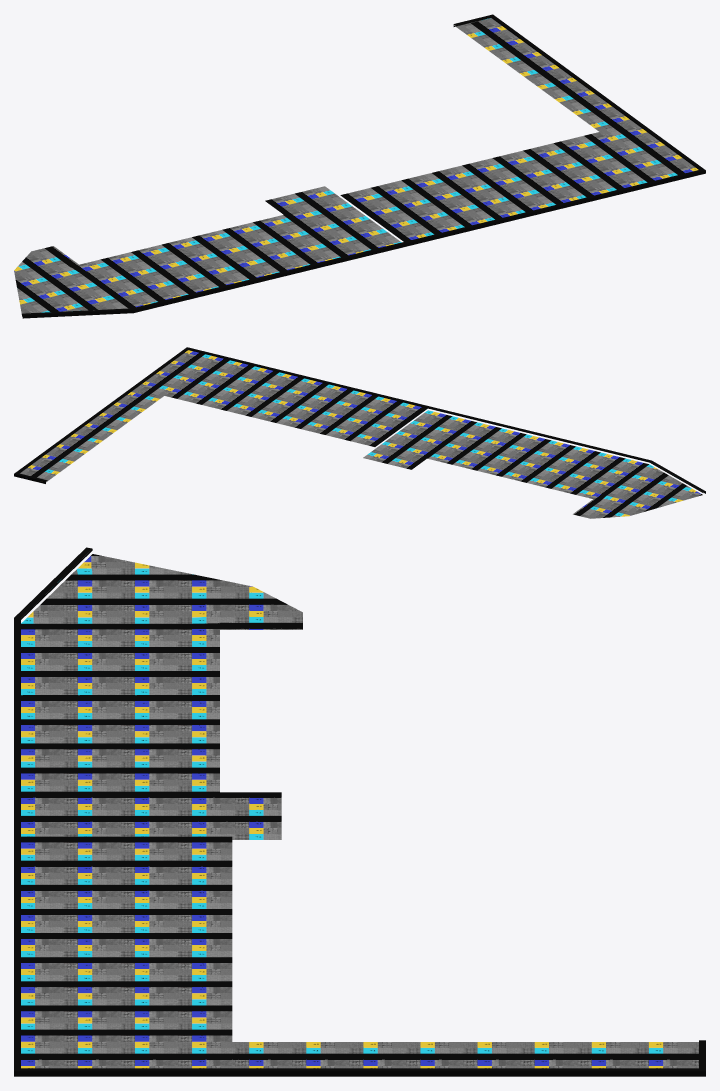
The model's file is downtown_sidewalk_3.fbx.
3 views of the same model, one above another, from view 1: azimuth 30°, elevation 25°; view 2: azimuth 150°, elevation 25°; view 3: azimuth 270°, elevation 25° (orthographic). The views are drawn at different scales.
Parts seen in each view (by area): view 1: curb_tiles_1, curb_tiles_2, downtown_curb_3; view 2: curb_tiles_1, curb_tiles_2, downtown_curb_3; view 3: curb_tiles_1, curb_tiles_2, downtown_curb_3.
Boxes of the visible parts, box(x1,y1,x2,y2) form: curb_tiles_1: box(340, 18, 698, 241); curb_tiles_2: box(14, 186, 401, 316); downtown_curb_3: box(22, 14, 705, 318); curb_tiles_1: box(20, 350, 427, 482); curb_tiles_2: box(363, 410, 702, 518); downtown_curb_3: box(14, 347, 705, 493); curb_tiles_1: box(21, 836, 698, 1068); curb_tiles_2: box(21, 554, 302, 839); downtown_curb_3: box(14, 547, 705, 1076).
Bounding box in the file's own units: 3257 × 15.35 × 1818.
